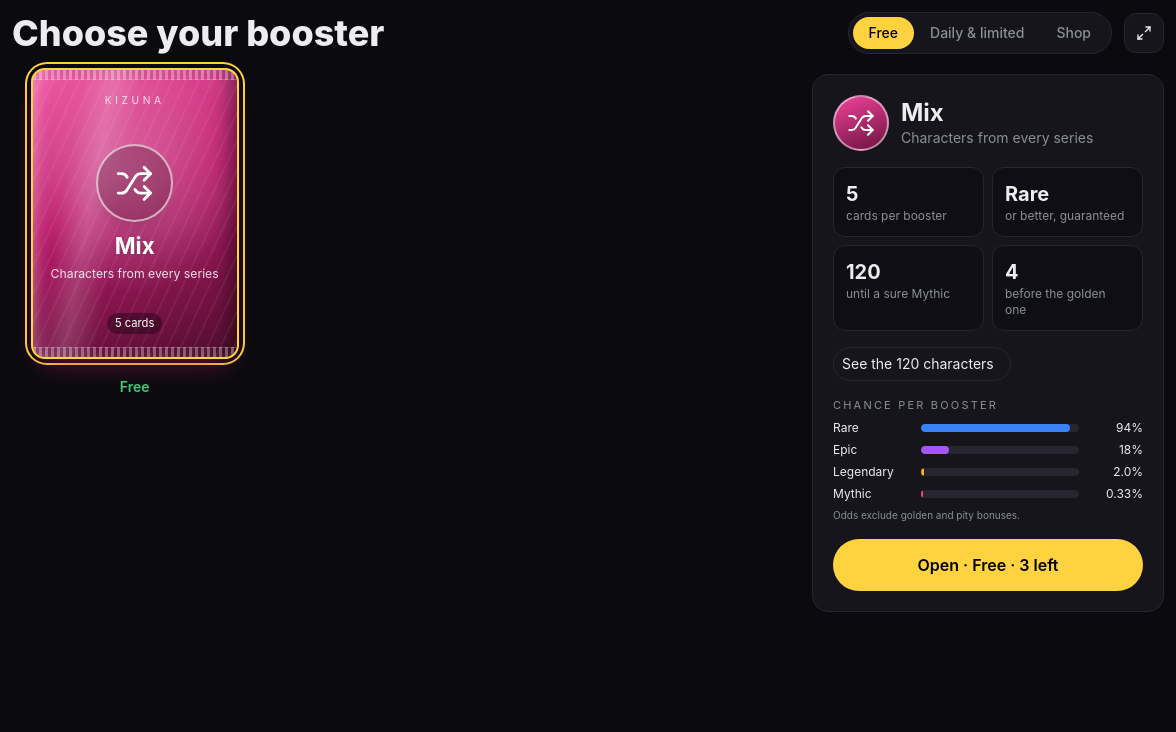
Test: BoosterGrid › shows when a live custom booster ends, and keeps every price label on one line at the bottom of its tile
This screenshot has width=1176, height=732.
What coordinates should you click on to do the following:
click the tab "Daily & limited"
I would click on:
 (977, 33)
Its box is [914,17,1040,49].
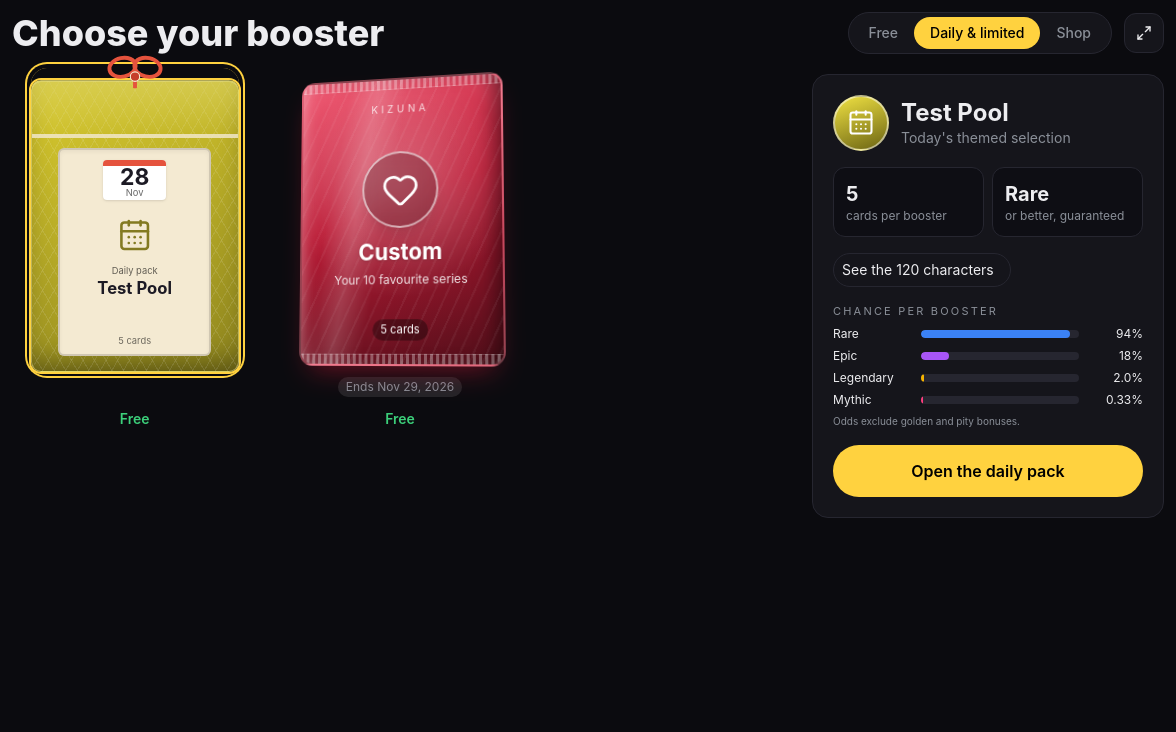
expect the text "Ends Nov 29, 2026" is shown: met, box [338,377,462,397]
